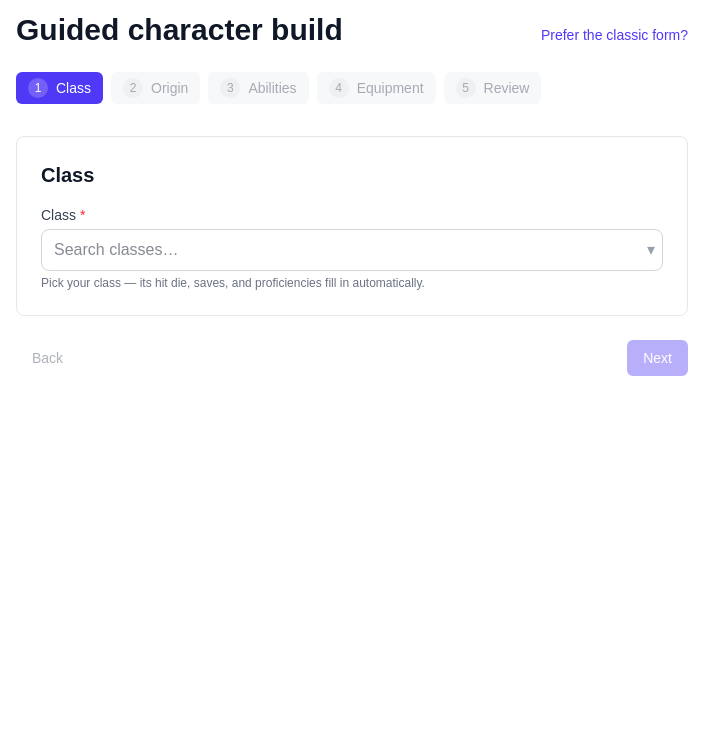
Test: GuidedCharacterPage — wizard shell › checks a step only once the user has moved past it
Expected: the button "2 Origin" does not show "✓", left=111, top=72, right=200, bottom=104
In the dropdown labelled "Class *": [352, 250] box left=41, top=229, right=663, bottom=271, type "Fighter"
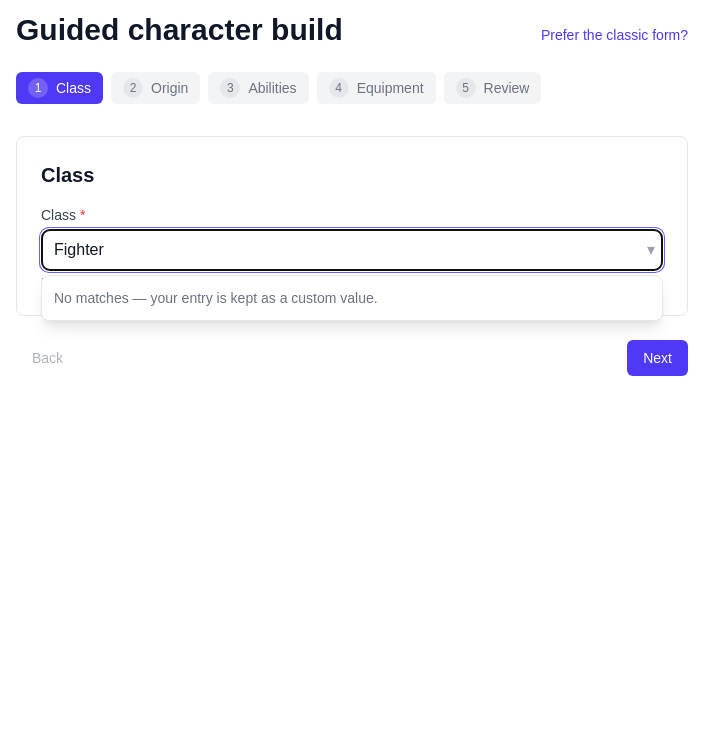
Expected: the button "Next" is enabled
Click the button "Next": [658, 358] box left=627, top=340, right=688, bottom=376
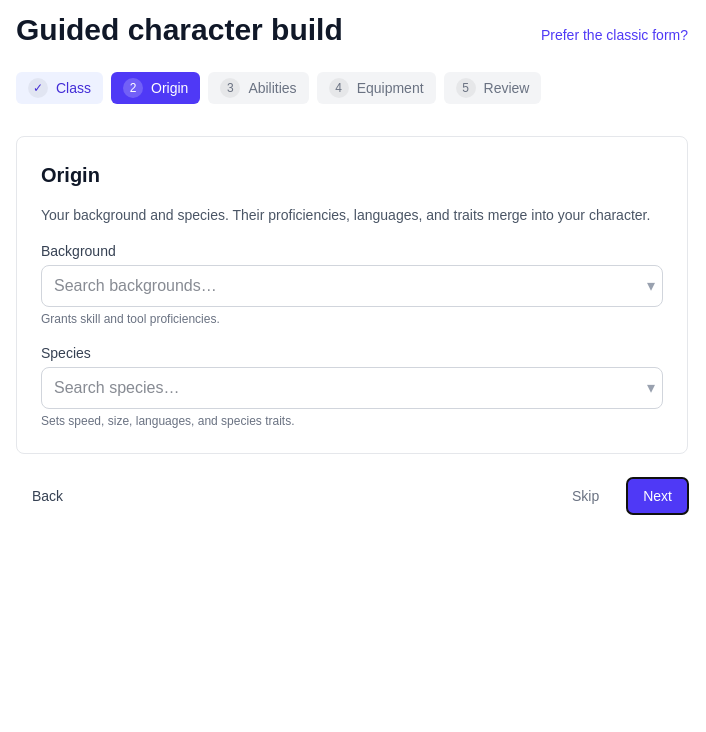
Click the button "Skip": [586, 496] box left=556, top=478, right=615, bottom=514
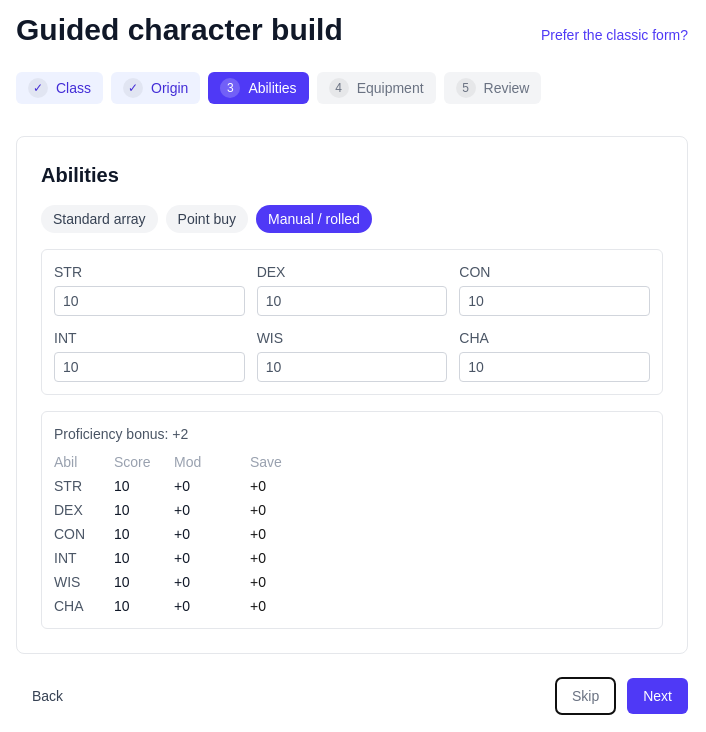
Expected: the button "✓ Origin" is shown, left=111, top=72, right=200, bottom=104
